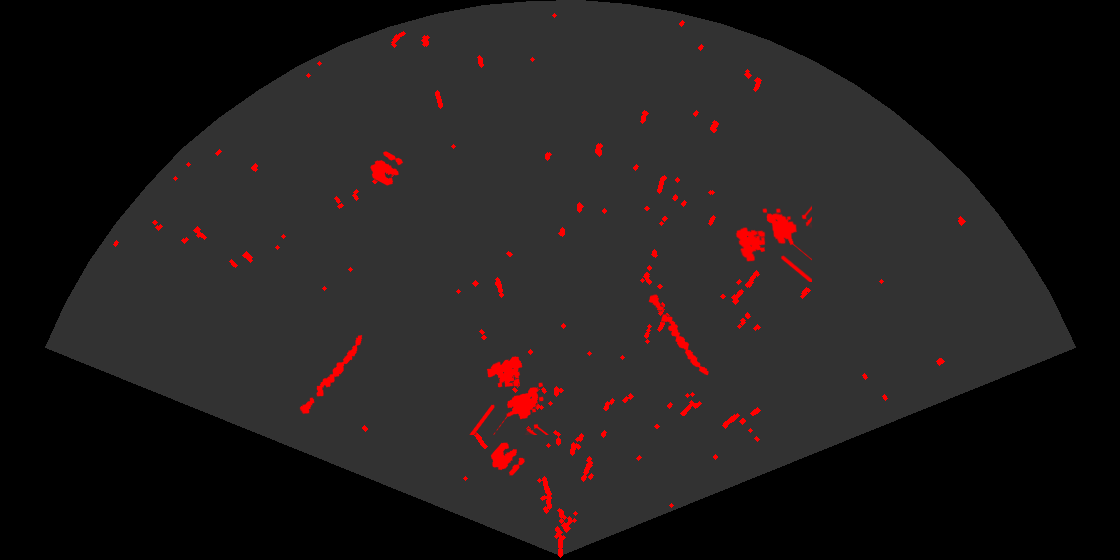ball: (489, 441, 526, 477), (369, 150, 405, 187)
cage: (468, 355, 550, 435), (734, 204, 812, 282)
chain: (298, 333, 364, 416), (647, 293, 710, 377)
